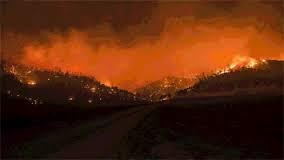fire: (214, 52, 268, 73)
